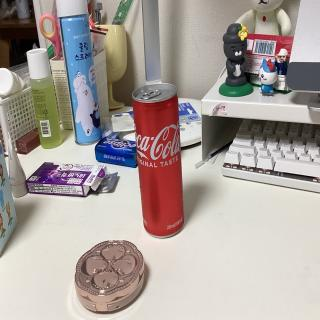cocacola: (132, 80, 192, 236)
